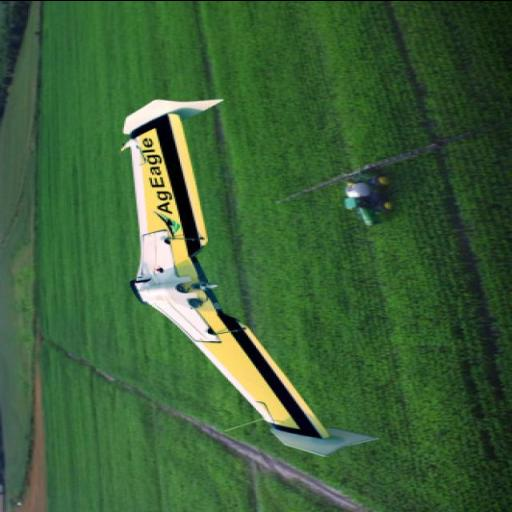uav: (110, 94, 380, 462)
